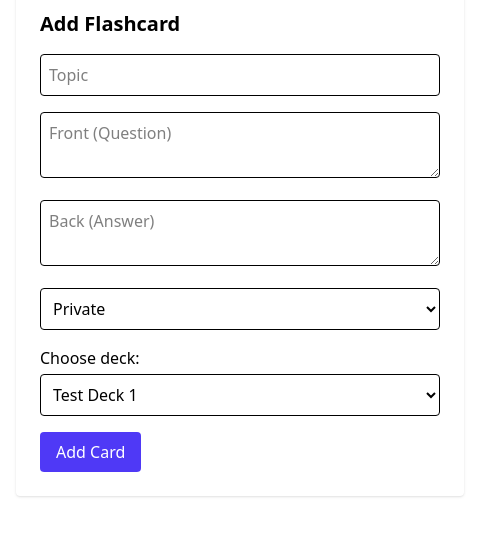
Test case: AddCardForm › submits form successfully and creates a card
Type "Test Topic" into the field with placeholder "Topic". click: (240, 75)
box: [40,54,440,96]
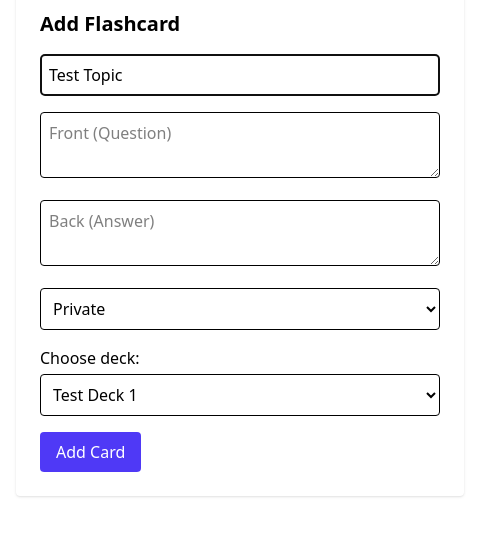
Type "Test Question" into the text box with placeholder "Front (Question)". click: (240, 145)
box: [40,112,440,178]
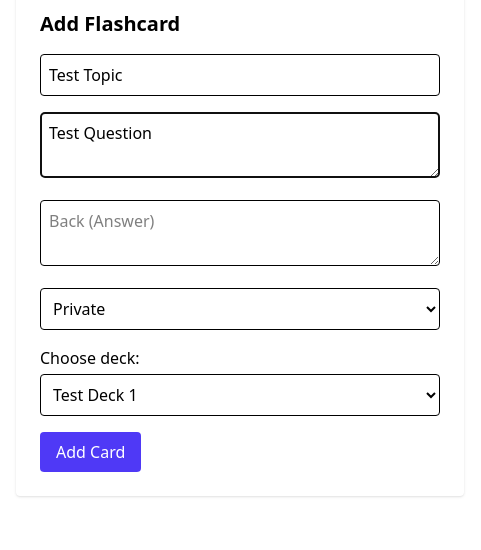
Type "Test Answer" into the text box with placeholder "Back (Answer)". click: (240, 233)
box: [40,200,440,266]
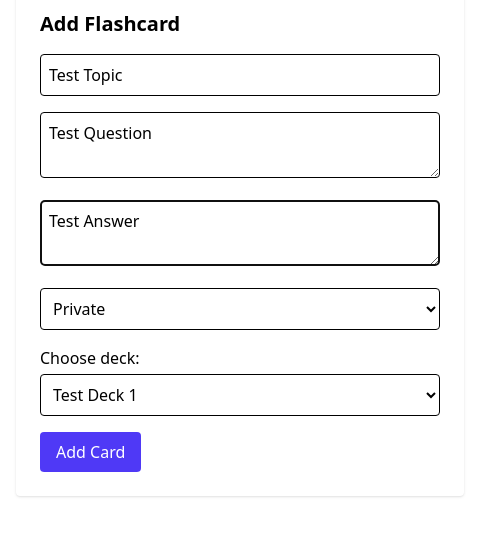
Select "Test Deck 1" in the dropdown with test id "deck-select". click: (240, 395)
box: [40,374,440,416]
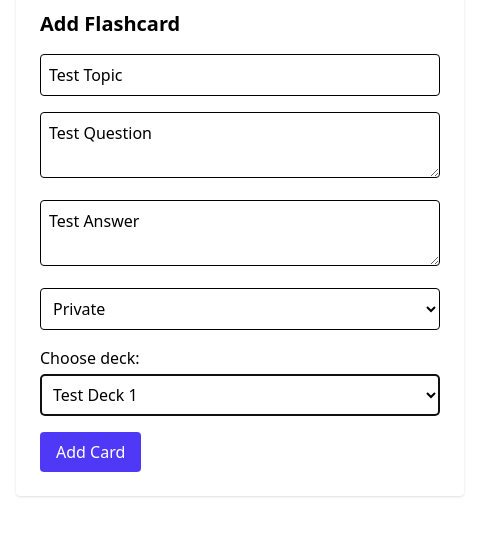
Select "Public" in the dropdown with test id "public-select". click: (240, 309)
box: [40,288,440,330]
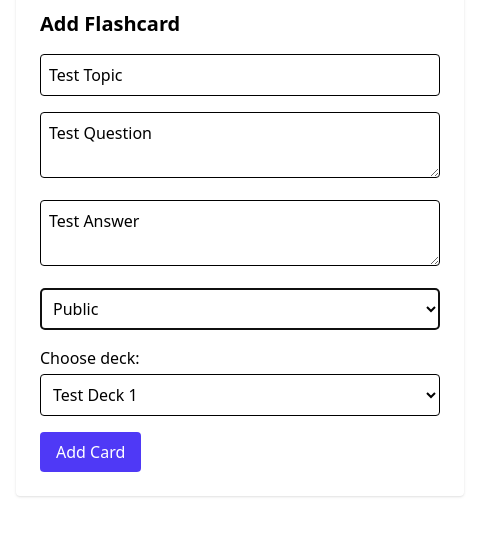
Click the button "Add Card". click: (91, 452)
box: [40,432,141,472]
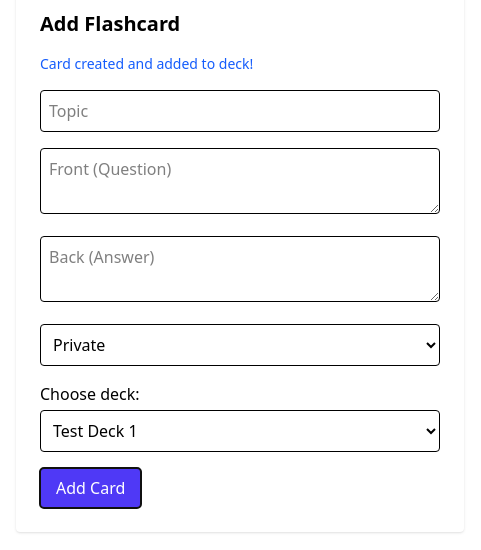
Now the text "Card created and added to deck!" is shown, box [40,54,253,73]
Now the field with placeholder "Topic" is empty, box [40,90,440,132]
Now the text box with placeholder "Front (Question)" is empty, box [40,148,440,214]
